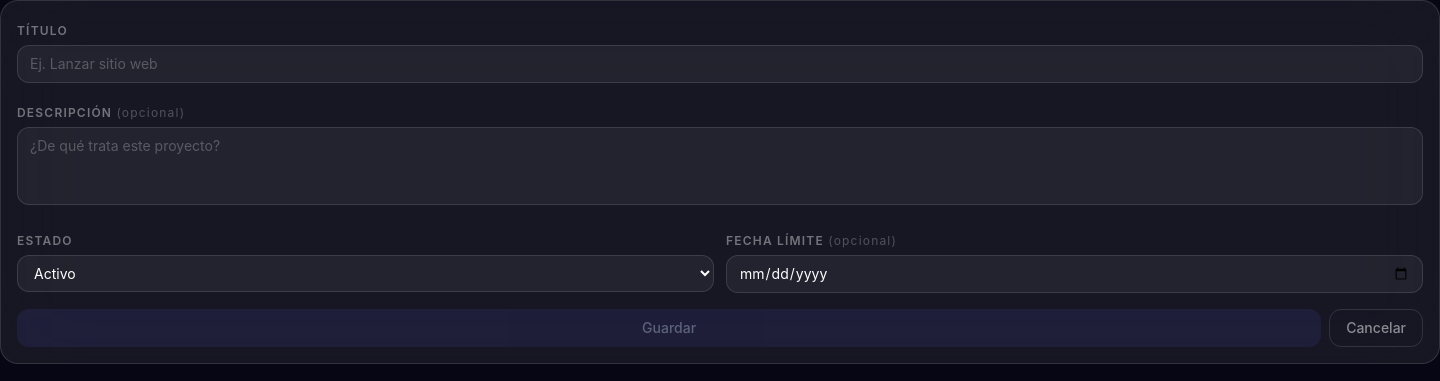
ProjectForm › Save button is enabled after typing a title
Step 1. Type "New project" into the field labelled "Título" → (720, 64), box [17,45,1423,83]
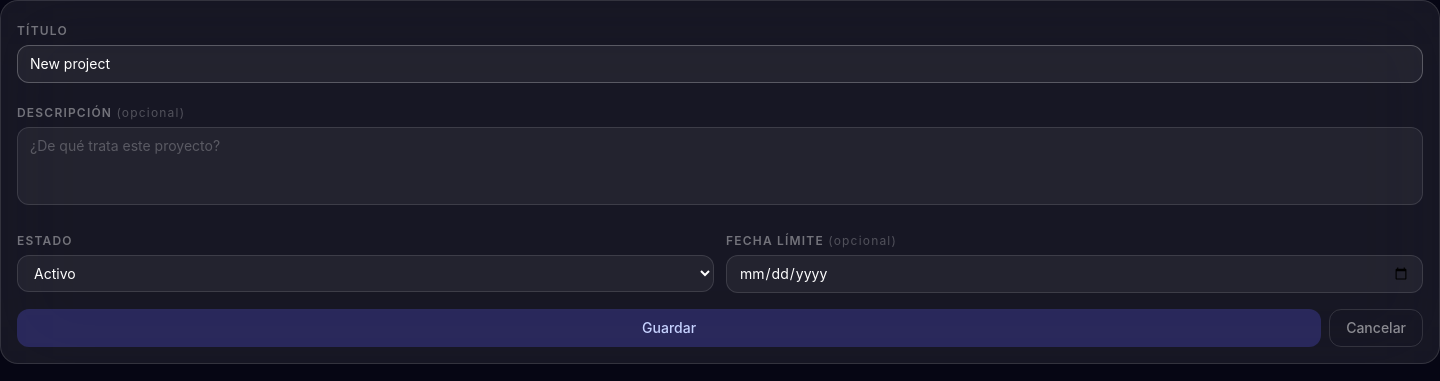
Expected: the button "Guardar" is enabled, [17,309,1321,347]
